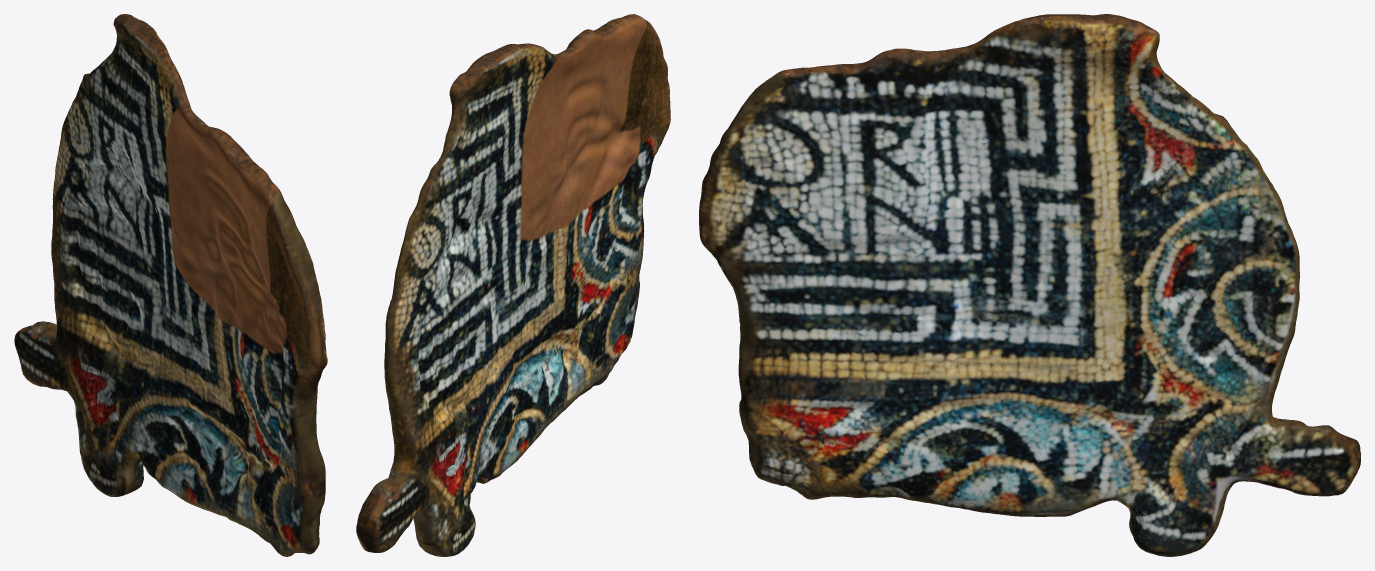
The model's file is primary-compressed.glb.
3 renders of one model, left to right at view 1: azimuth 30°, elevation 25°; view 2: azimuth 150°, elevation 25°; view 3: azimuth 270°, elevation 25°, orthographic. The views are drawn at different scales.
Size of the model in its own units: 0.1845 by 1.78 by 2.
Materials: 1 (1 with a texture image).
